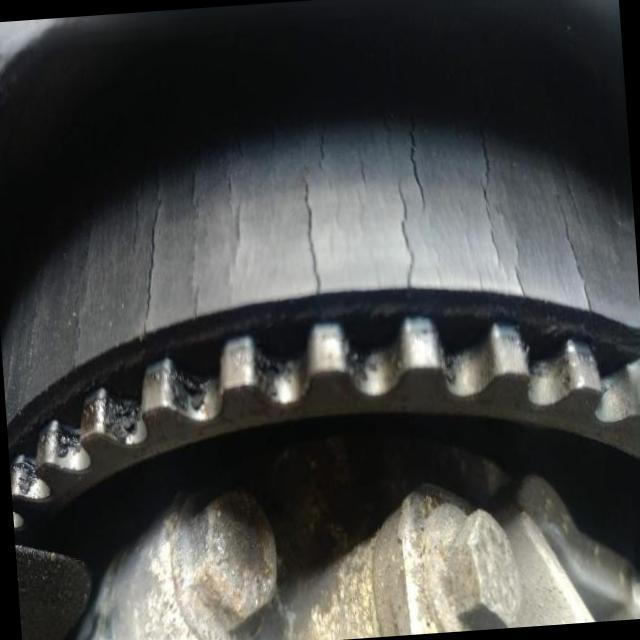Tear: (464, 74, 508, 261), (543, 190, 596, 313), (131, 194, 174, 340), (400, 77, 432, 208), (292, 179, 326, 297), (390, 188, 420, 291), (307, 71, 334, 172), (180, 95, 202, 206)
